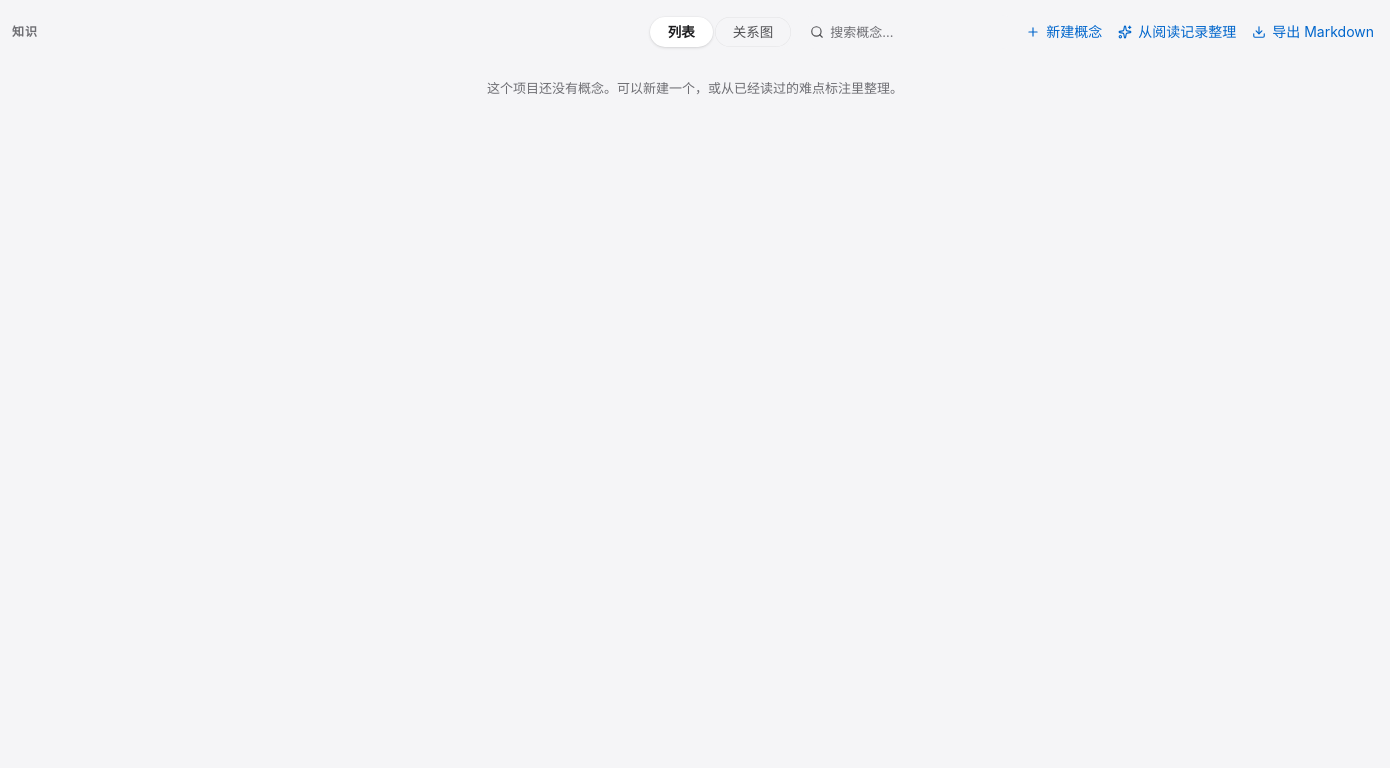
Scenario: KnowledgeView: concepts › creates a concept and shows it in the list and the detail
Click the button "新建概念" at (1064,32), box [1022,17,1106,47]
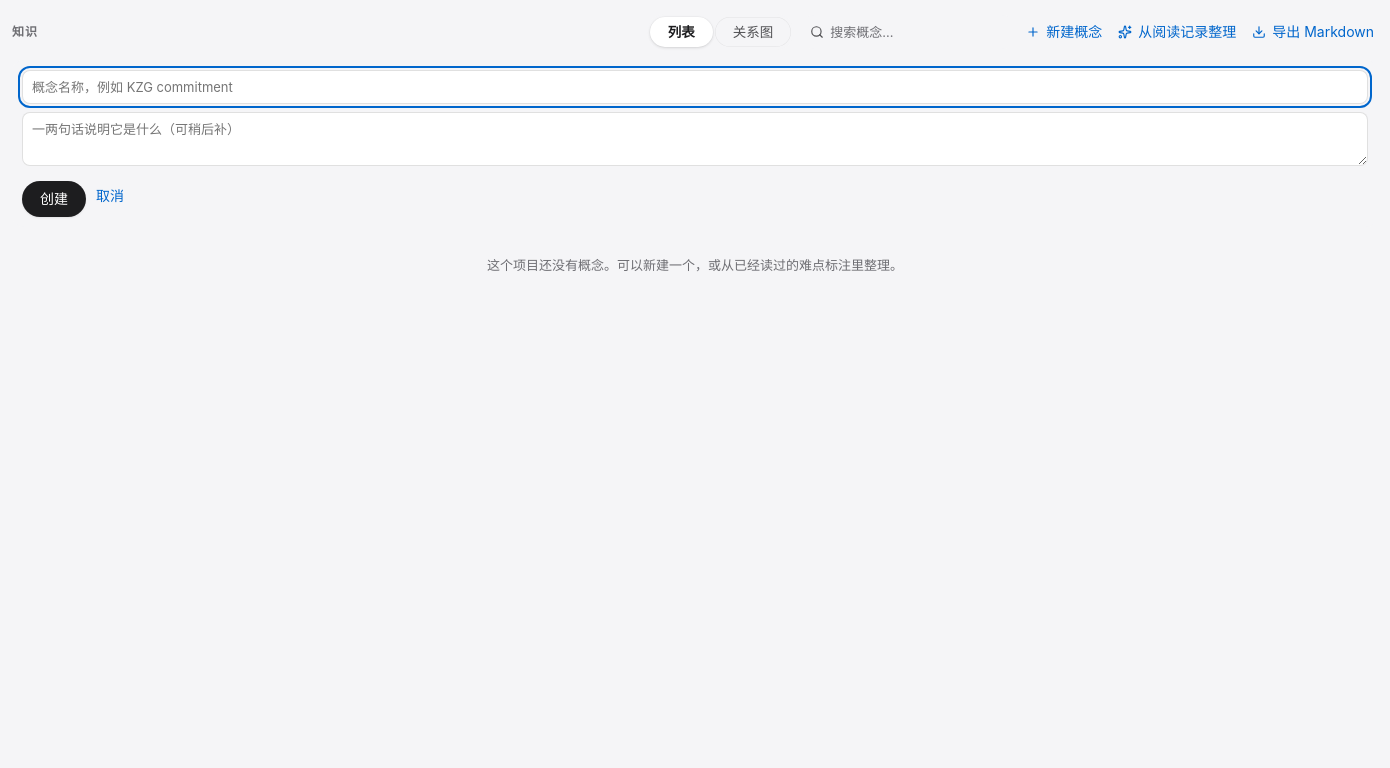
Type "KZG commitment" into the field labelled "概念名称" at (695,87), box [22,70,1368,104]
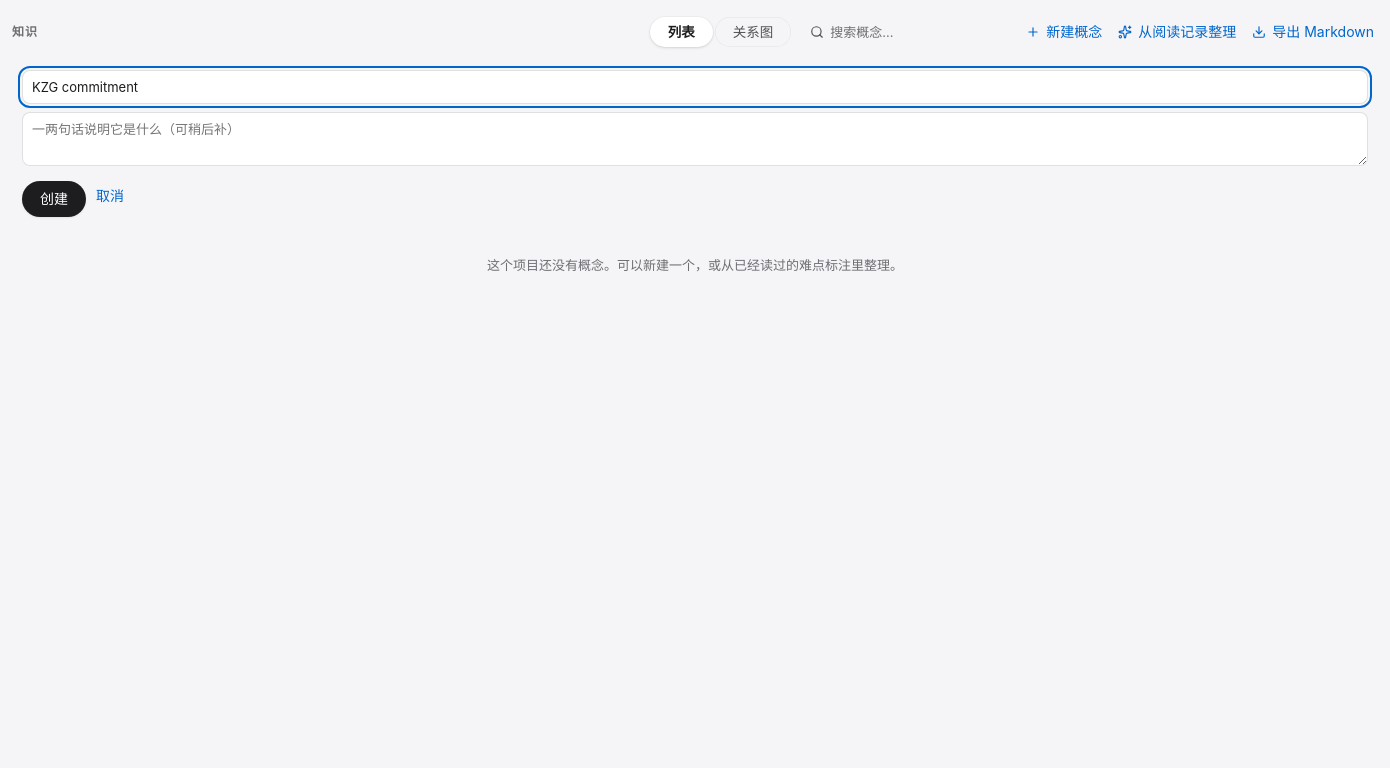
Type "把多项式绑定到一个承诺上。" into the text box named "简短概述" at (695,139), box [22,112,1368,166]
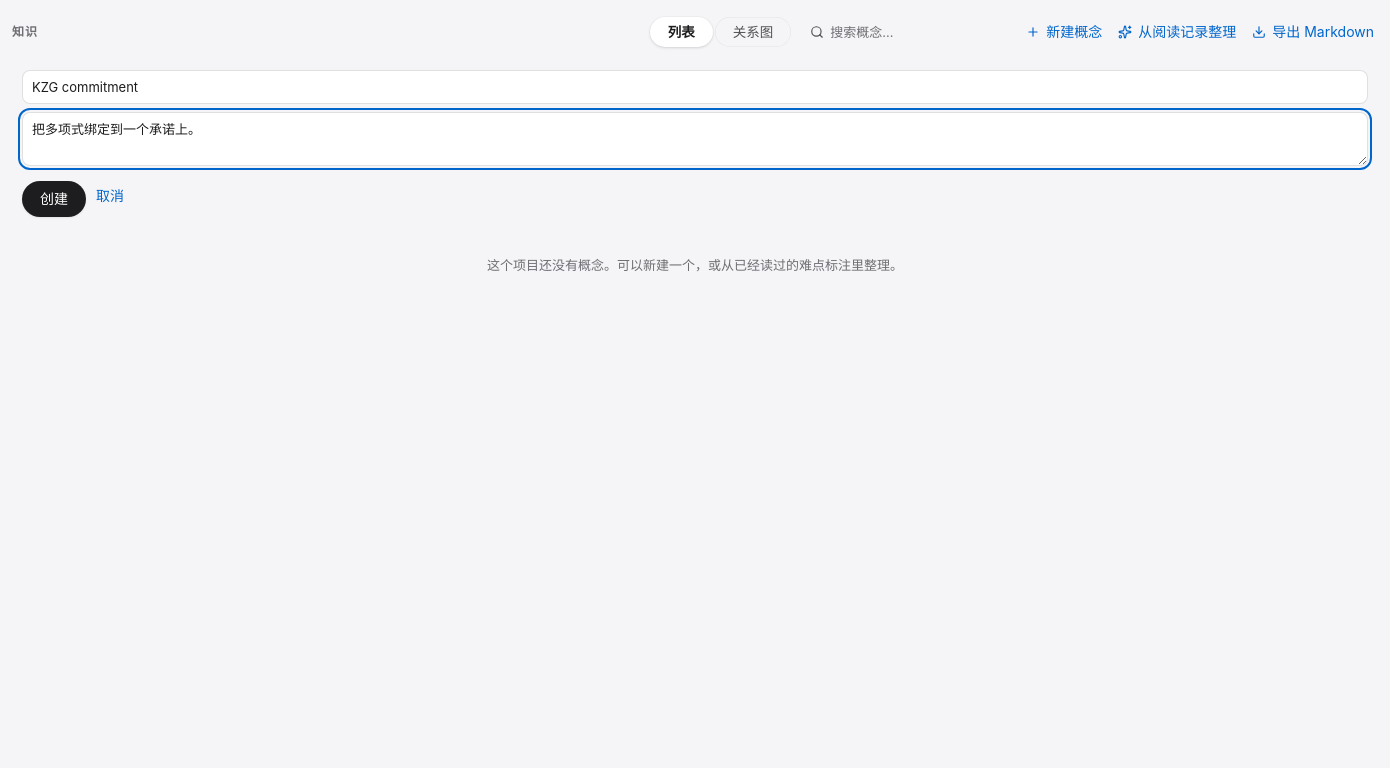
Click the button "创建" at (54,199), box [22,181,86,217]
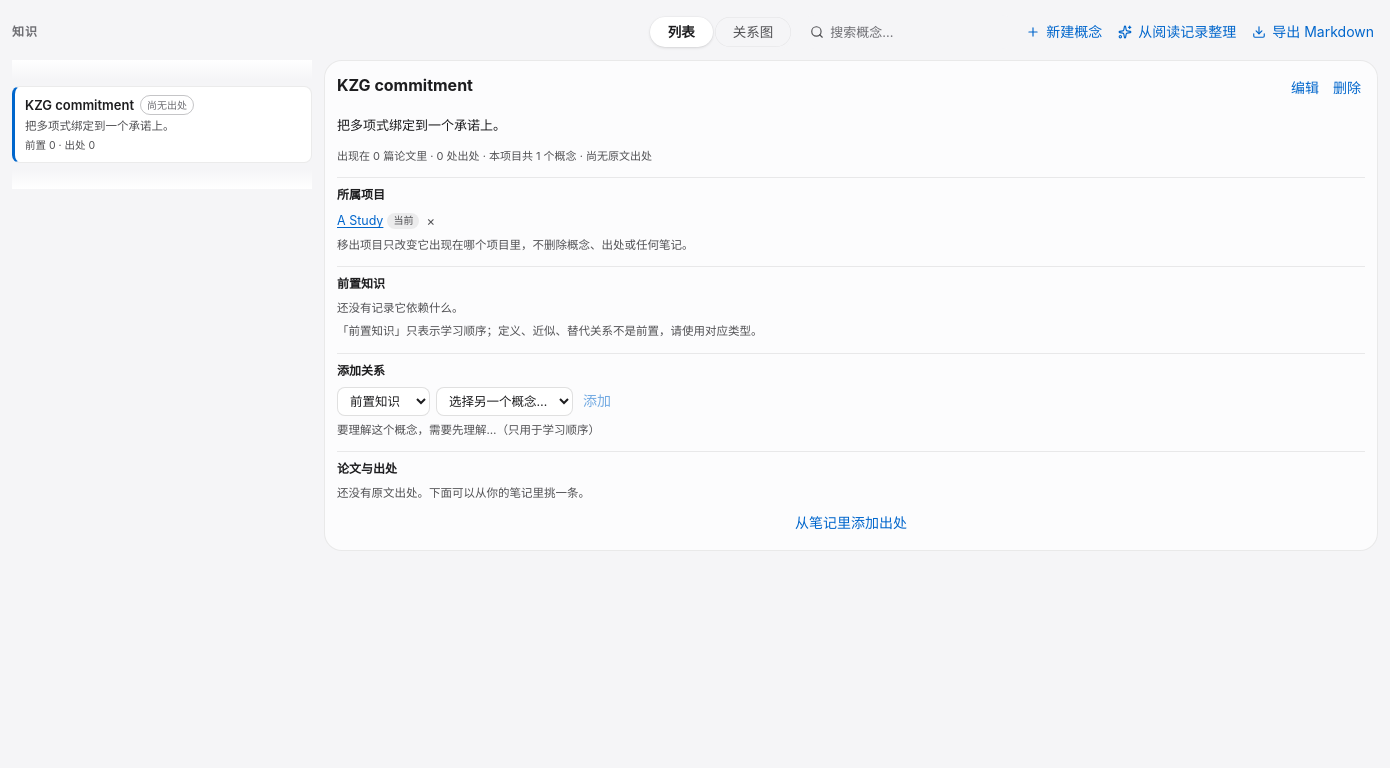
Now the text "KZG commitment" is shown, box [25,97,134,113]
Now the element named "概念：KZG commitment" is shown, box [324,60,1378,551]
Now the 2nd text "把多项式绑定到一个承诺上。" is shown, box [337,117,506,133]
